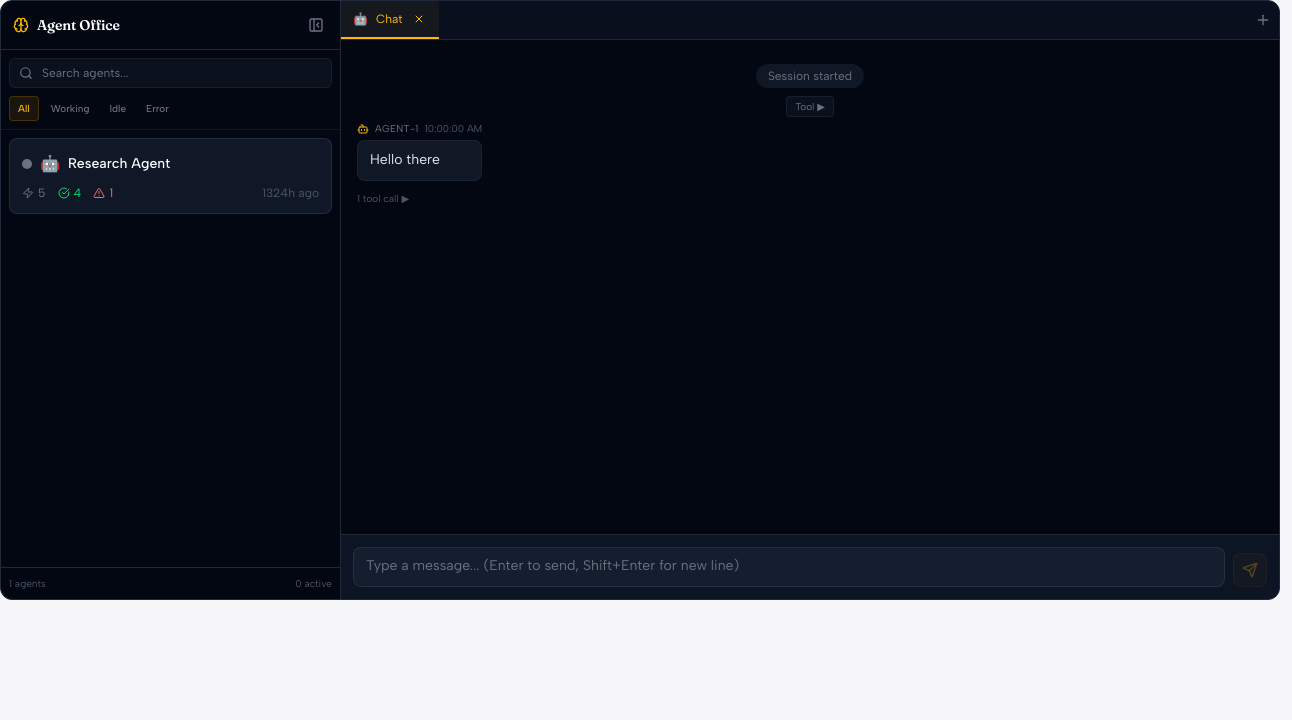
it: CommandCenter â€” message bubble variants › renders system, tool, and assistant messages and toggles expansions
Check: the text "Session started" is shown, box [756, 64, 864, 88]
// Tool message renders a collapsible chip
Click the button "Tool ▶".
click(810, 106)  # box [786, 96, 834, 117]
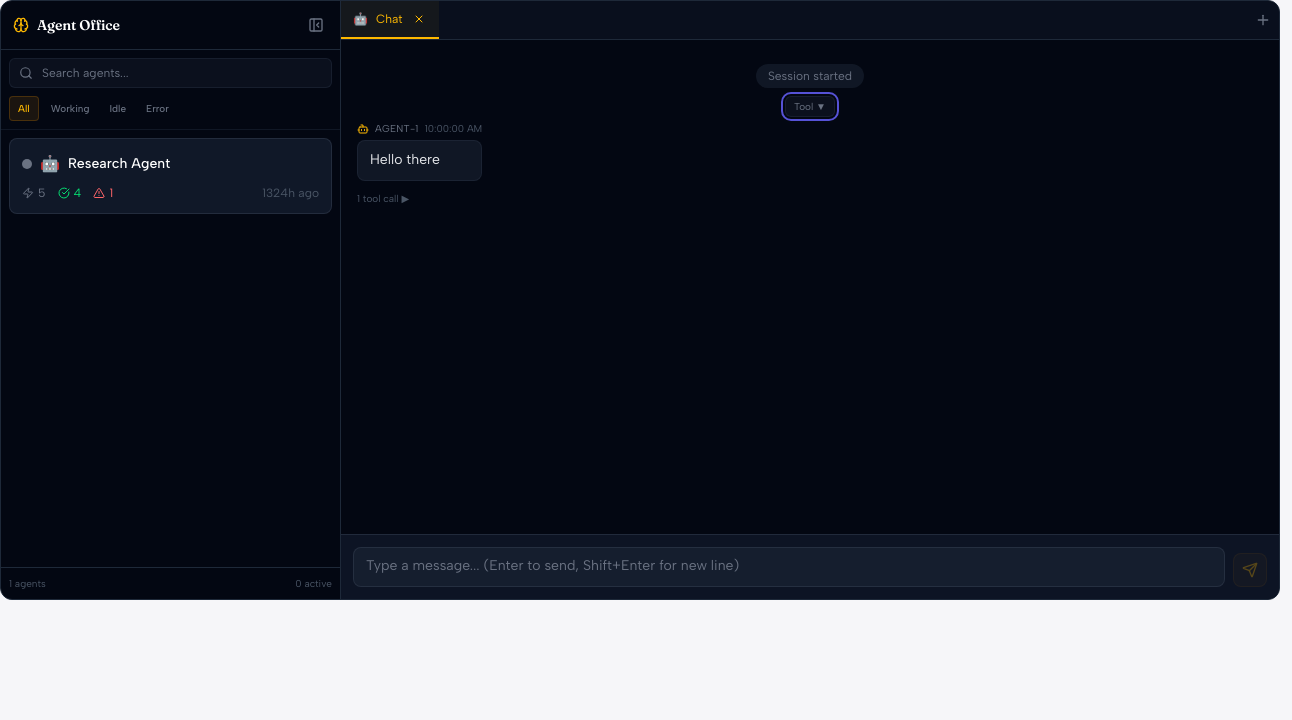
Check: the text "Hello there" is shown, box [370, 151, 440, 168]
Click the button "1 tool call ▶".
click(383, 198)  # box [357, 191, 409, 206]
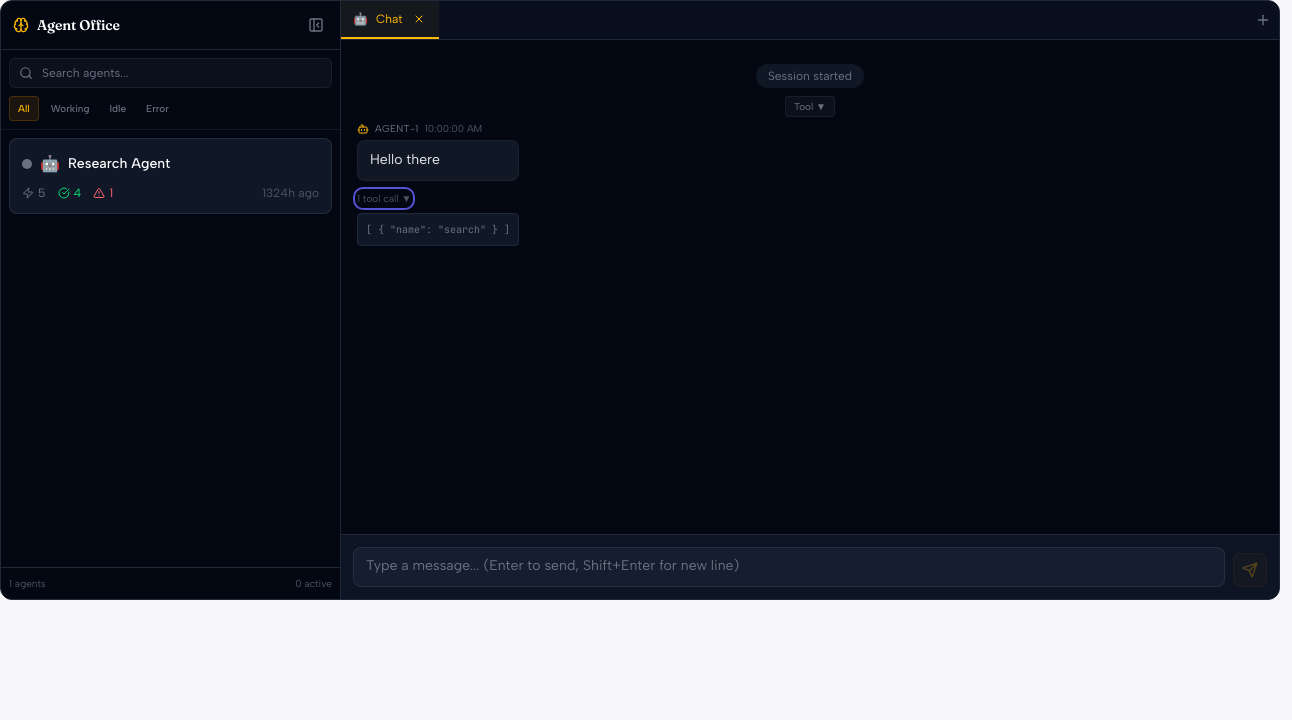
Check: the text "[ { \"name\": \"search\" } ]" is shown, box [357, 213, 519, 246]
